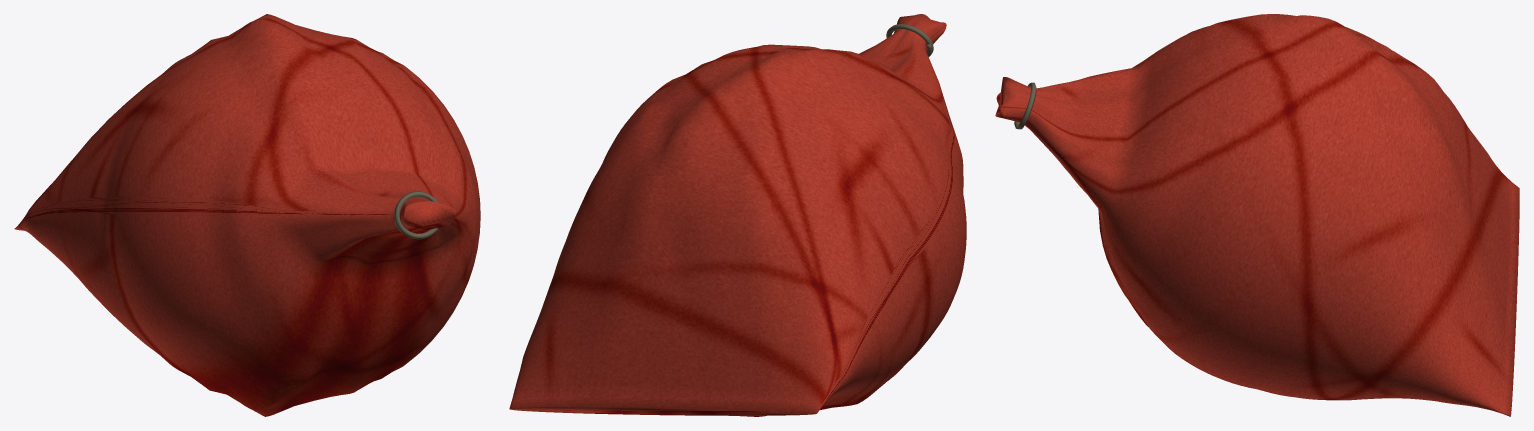
Rendered from peach_01_027.glb.
3 renders of one model, left to right at view 1: azimuth 30°, elevation 25°; view 2: azimuth 150°, elevation 25°; view 3: azimuth 270°, elevation 25°, orthographic.
Visible parts, largest first — view 1: export_Tree01/shoot2_4_1/bag, export_Tree01/shoot2_4_1/bag/tie; view 2: export_Tree01/shoot2_4_1/bag; view 3: export_Tree01/shoot2_4_1/bag.
Part boxes in pixels (x1=…): export_Tree01/shoot2_4_1/bag: x1=14, y1=14, x2=480, y2=416; export_Tree01/shoot2_4_1/bag/tie: x1=393, y1=191, x2=438, y2=239; export_Tree01/shoot2_4_1/bag: x1=509, y1=14, x2=966, y2=416; export_Tree01/shoot2_4_1/bag: x1=995, y1=14, x2=1519, y2=416.
Size of the model in its own units: 0.088 by 0.0901 by 0.1193.
4 materials, 1 textured.
